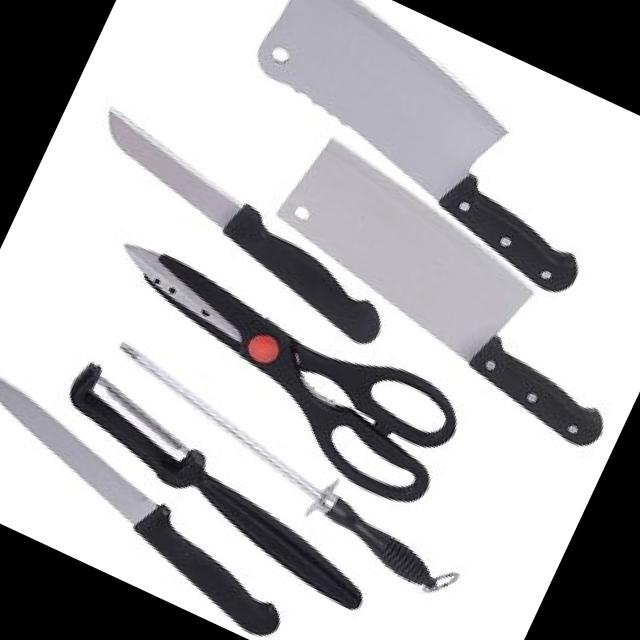Weapon: (191, 0, 640, 305), (234, 131, 640, 462), (58, 97, 424, 356), (0, 357, 328, 640)
